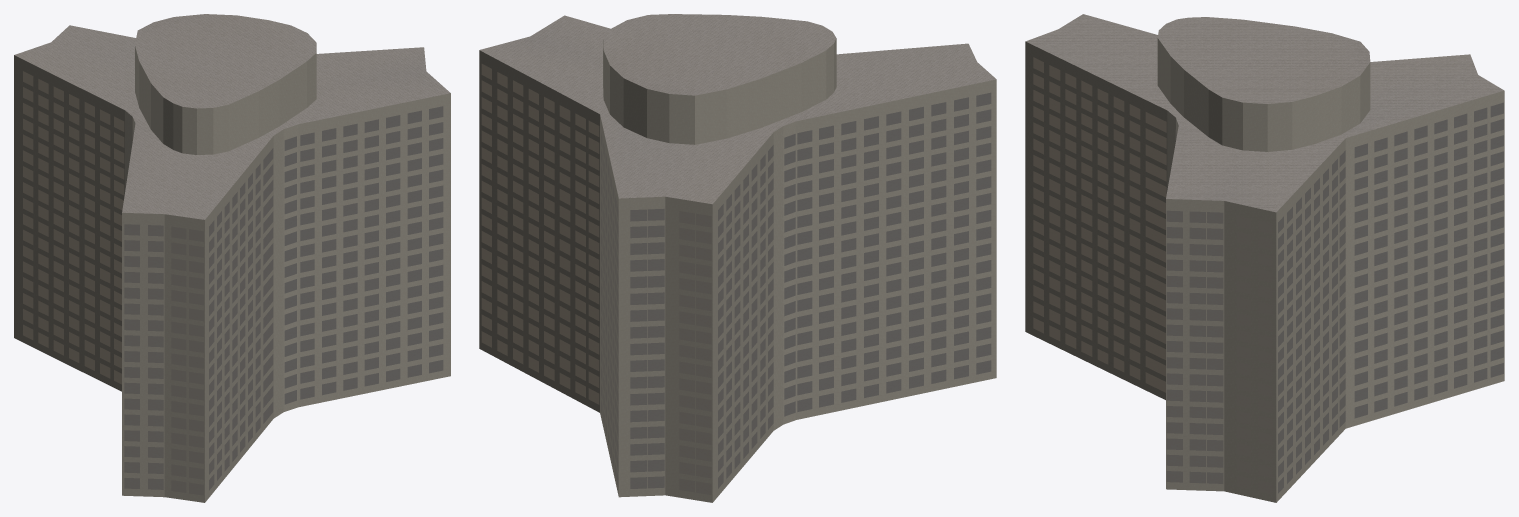
Rendered from tour-mirabeau.glb.
3 renders of one model, left to right at view 1: azimuth 30°, elevation 25°; view 2: azimuth 150°, elevation 25°; view 3: azimuth 270°, elevation 25°, orthographic. The views are drawn at different scales.
Parts seen in each view (by area): view 1: stone, window, roof; view 2: stone, window, roof; view 3: stone, window, roof.
Boxes of the visible parts, left/top/right/bottom form: stone: left=14, top=46, right=450, bottom=502; window: left=23, top=71, right=443, bottom=495; roof: left=14, top=14, right=450, bottom=219; stone: left=479, top=38, right=996, bottom=502; window: left=481, top=64, right=991, bottom=494; roof: left=479, top=14, right=995, bottom=204; stone: left=1025, top=38, right=1504, bottom=502; window: left=1033, top=57, right=1503, bottom=494; roof: left=1026, top=14, right=1503, bottom=212.
Size of the model in its own units: 73.25 by 58.24 by 74.73.
3 materials, 3 textured.
